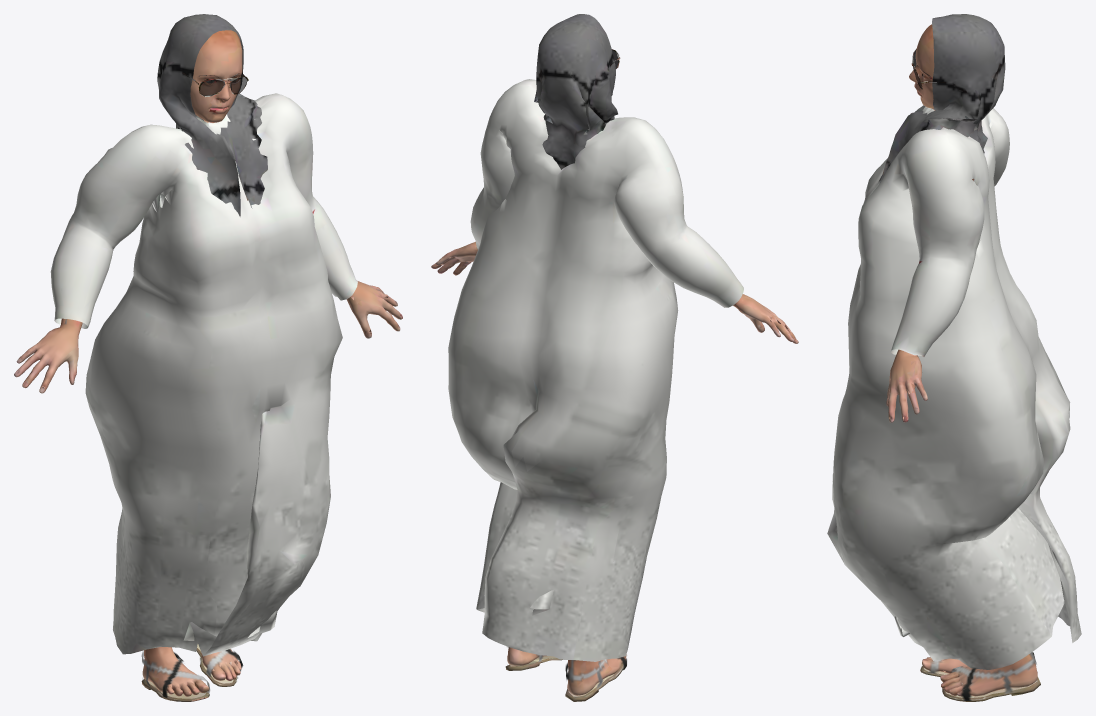
3 renders of one model, left to right at view 1: azimuth 30°, elevation 25°; view 2: azimuth 150°, elevation 25°; view 3: azimuth 270°, elevation 25°, orthographic. The views are drawn at different scales.
Parts seen in each view (by area): view 1: robesv1_w002; view 2: robesv1_w002; view 3: robesv1_w002.
Boxes of the visible parts, box(x1,y1,x2,y2) form: robesv1_w002: box(14, 14, 402, 701); robesv1_w002: box(431, 14, 798, 701); robesv1_w002: box(827, 14, 1081, 701).
Bounding box in the file's own units: 0.9785 × 1.66 × 0.5653.
Materials: 1 (1 with a texture image).
